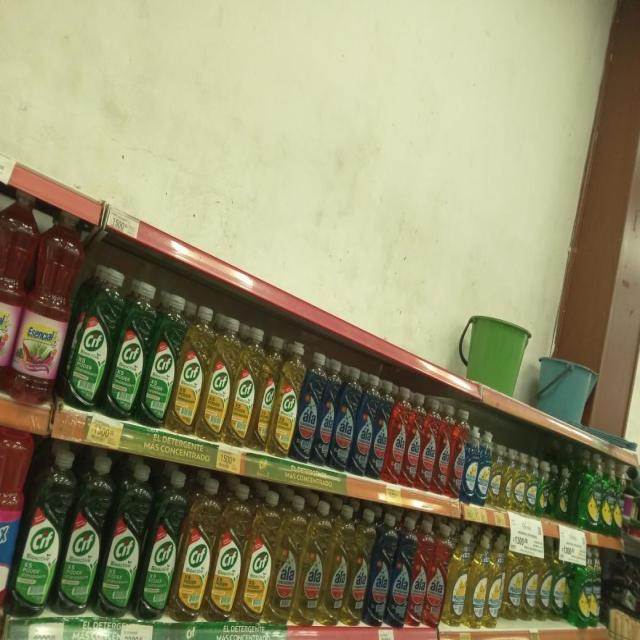ala_conc_amarillo: (300, 500, 329, 628), (274, 493, 300, 627), (328, 504, 351, 627), (349, 508, 368, 626)
ala_conc_azul: (369, 512, 390, 628), (297, 349, 318, 464), (334, 365, 354, 473), (391, 516, 410, 628), (354, 372, 373, 478), (318, 357, 334, 468), (372, 378, 388, 481)
ala_conc_rojo: (427, 523, 446, 628), (410, 520, 428, 628), (388, 386, 406, 486), (421, 397, 436, 492), (436, 402, 451, 496), (406, 391, 420, 489), (450, 406, 464, 501)
cif_conc_bot_amarilla: (179, 476, 212, 623), (213, 483, 244, 623), (245, 488, 274, 626), (177, 304, 206, 438), (205, 314, 233, 443), (232, 325, 258, 451), (275, 340, 298, 460), (258, 333, 276, 454)
cif_conc_botella_verde: (15, 447, 61, 617), (63, 454, 103, 616), (67, 262, 110, 412), (103, 459, 143, 618), (110, 278, 146, 422), (144, 469, 178, 621), (144, 290, 177, 430)
magistral_con_amarillo: (448, 530, 468, 627), (469, 533, 488, 629), (488, 535, 505, 628), (506, 540, 522, 622), (552, 548, 568, 622), (538, 544, 552, 622), (524, 544, 538, 622), (490, 444, 503, 509), (513, 452, 526, 513), (526, 454, 537, 516), (502, 448, 513, 510)
magistral_con_azul: (476, 432, 489, 507), (464, 426, 476, 504)
